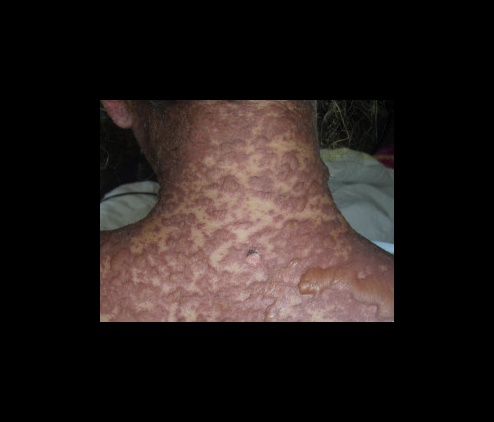SJS-TEN: (89, 99, 397, 332)
